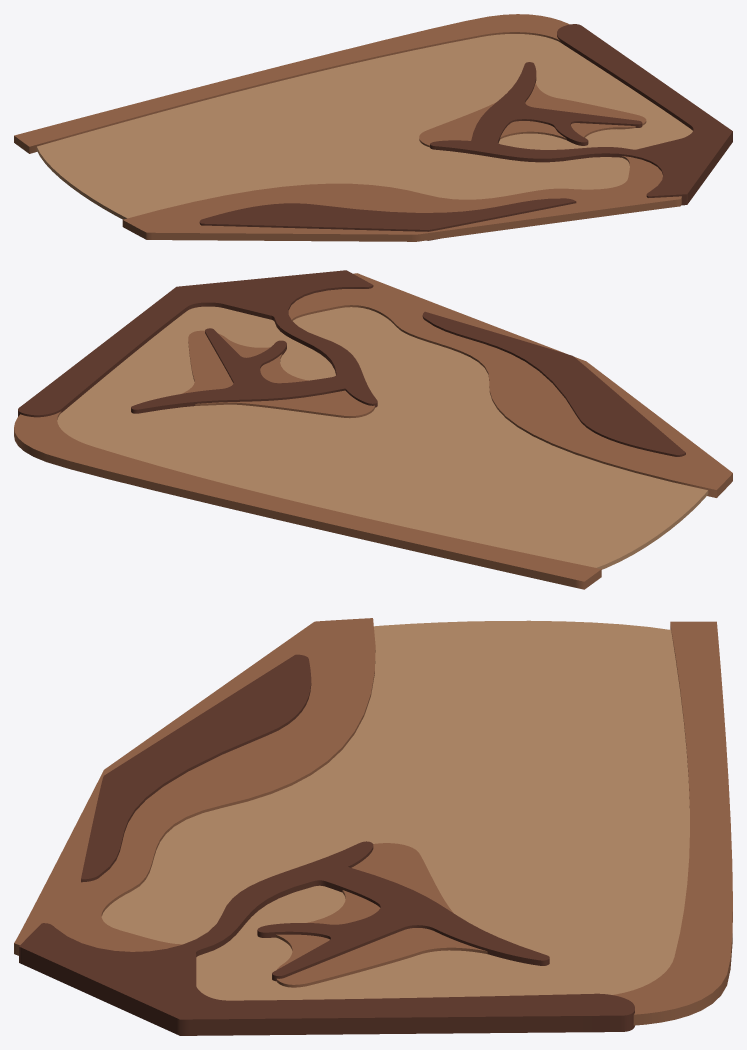
Rendered from emoji_u1f91c_1f3fd.glb.
3 renders of one model, top to bottom at view 1: azimuth 30°, elevation 25°; view 2: azimuth 150°, elevation 25°; view 3: azimuth 270°, elevation 25°, orthographic. The views are drawn at different scales.
Visible parts, largest first — view 1: emoji_u1f91c_1f3fd; view 2: emoji_u1f91c_1f3fd; view 3: emoji_u1f91c_1f3fd.
Boxes of the visible parts, x1,y1,x2,y2 form: emoji_u1f91c_1f3fd: [14, 14, 732, 241]; emoji_u1f91c_1f3fd: [14, 270, 732, 589]; emoji_u1f91c_1f3fd: [14, 618, 732, 1035].
Size of the model in its own units: 0.0318 by 0.0006 by 0.0239.
